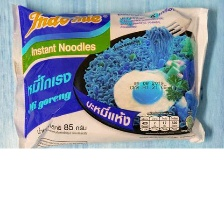snack: (4, 0, 215, 148)
